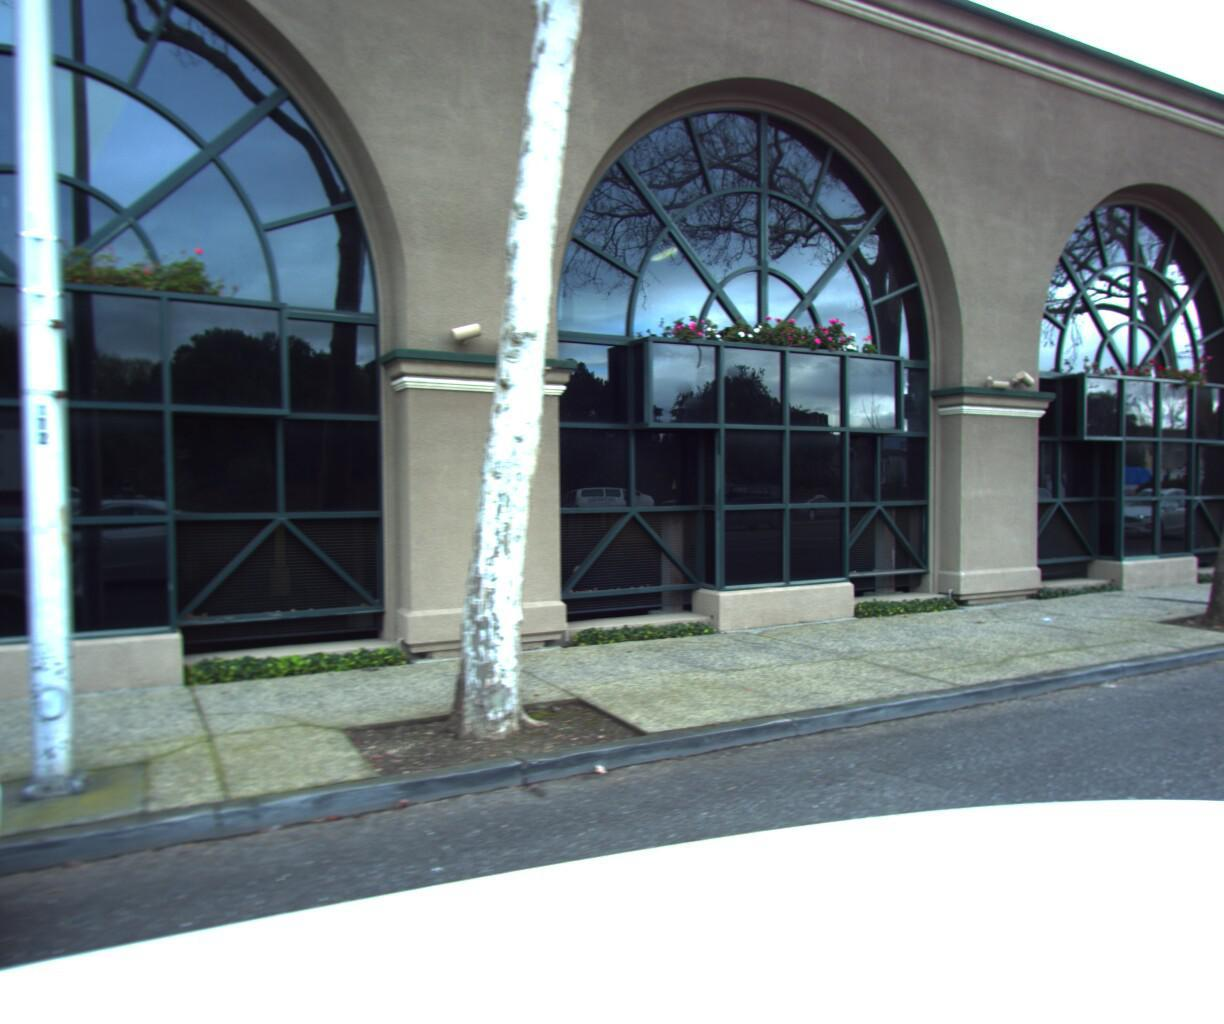car: (0, 557, 19, 1024)
